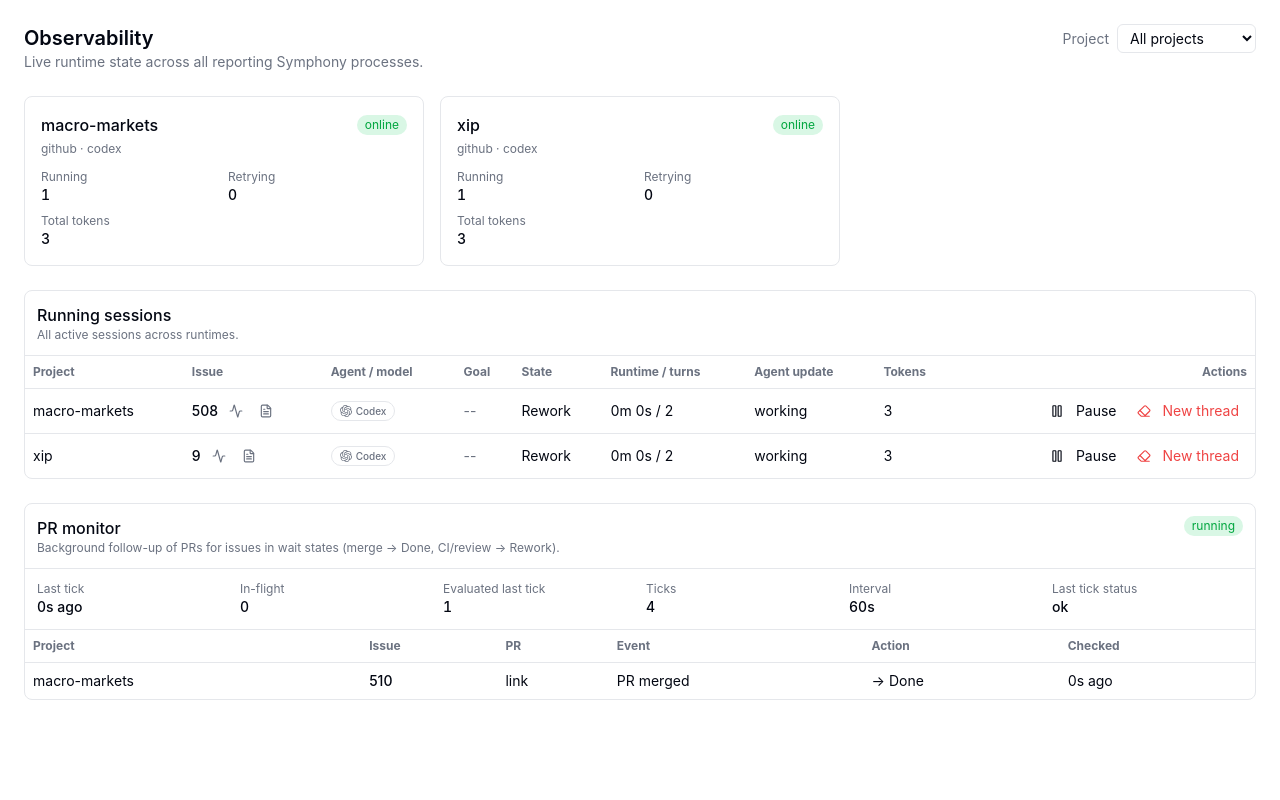
Test: ObservabilityPage › filters running sessions by project
Expected: the text "508" is shown, [192, 402, 273, 419]
Expected: the text "9" is shown, [192, 446, 201, 466]
Select "xip" in the dropdown labelled "Project" at (1186, 38), box [1117, 24, 1256, 53]
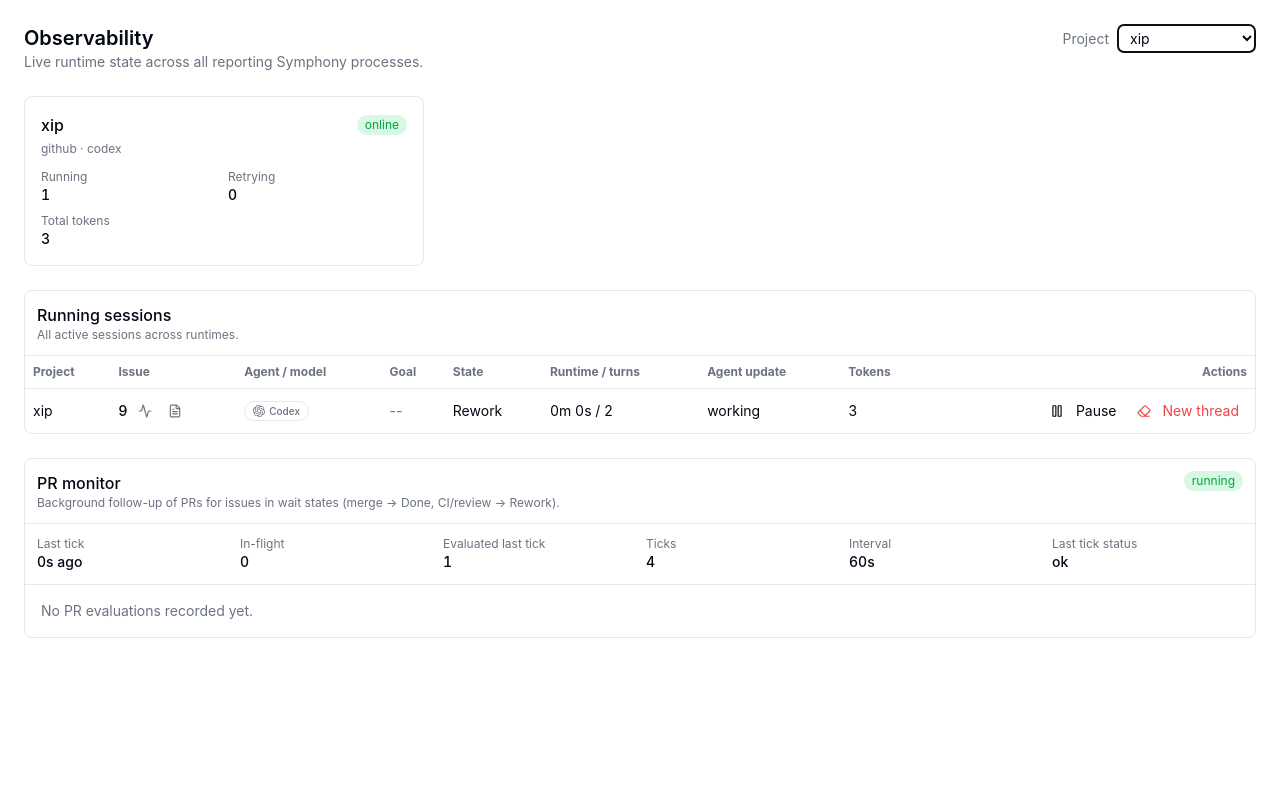
Expected: the text "9" is shown, [118, 401, 127, 421]
Expected: the text "508" is gone
